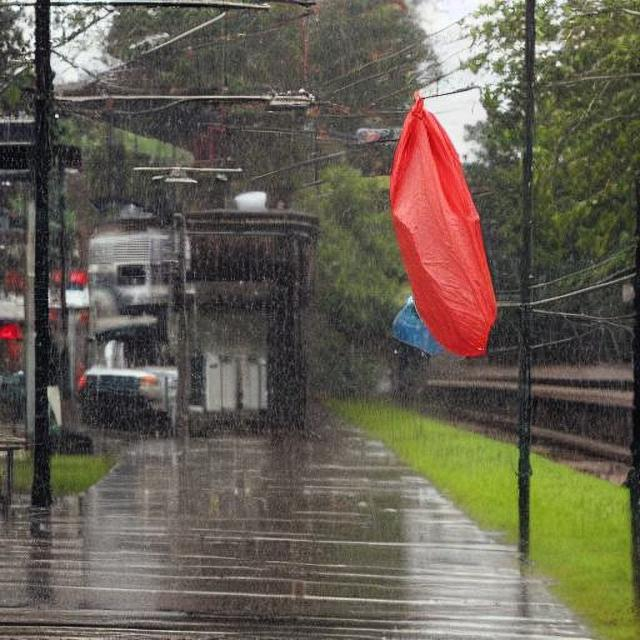plastic bag: (384, 79, 504, 368)
